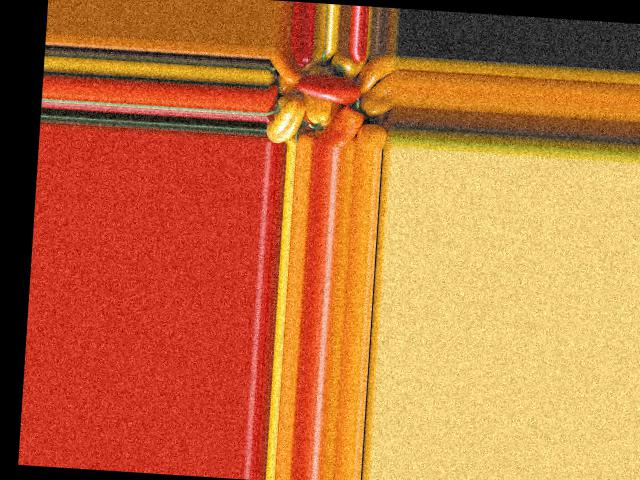bell_pepper: (265, 97, 308, 143)
